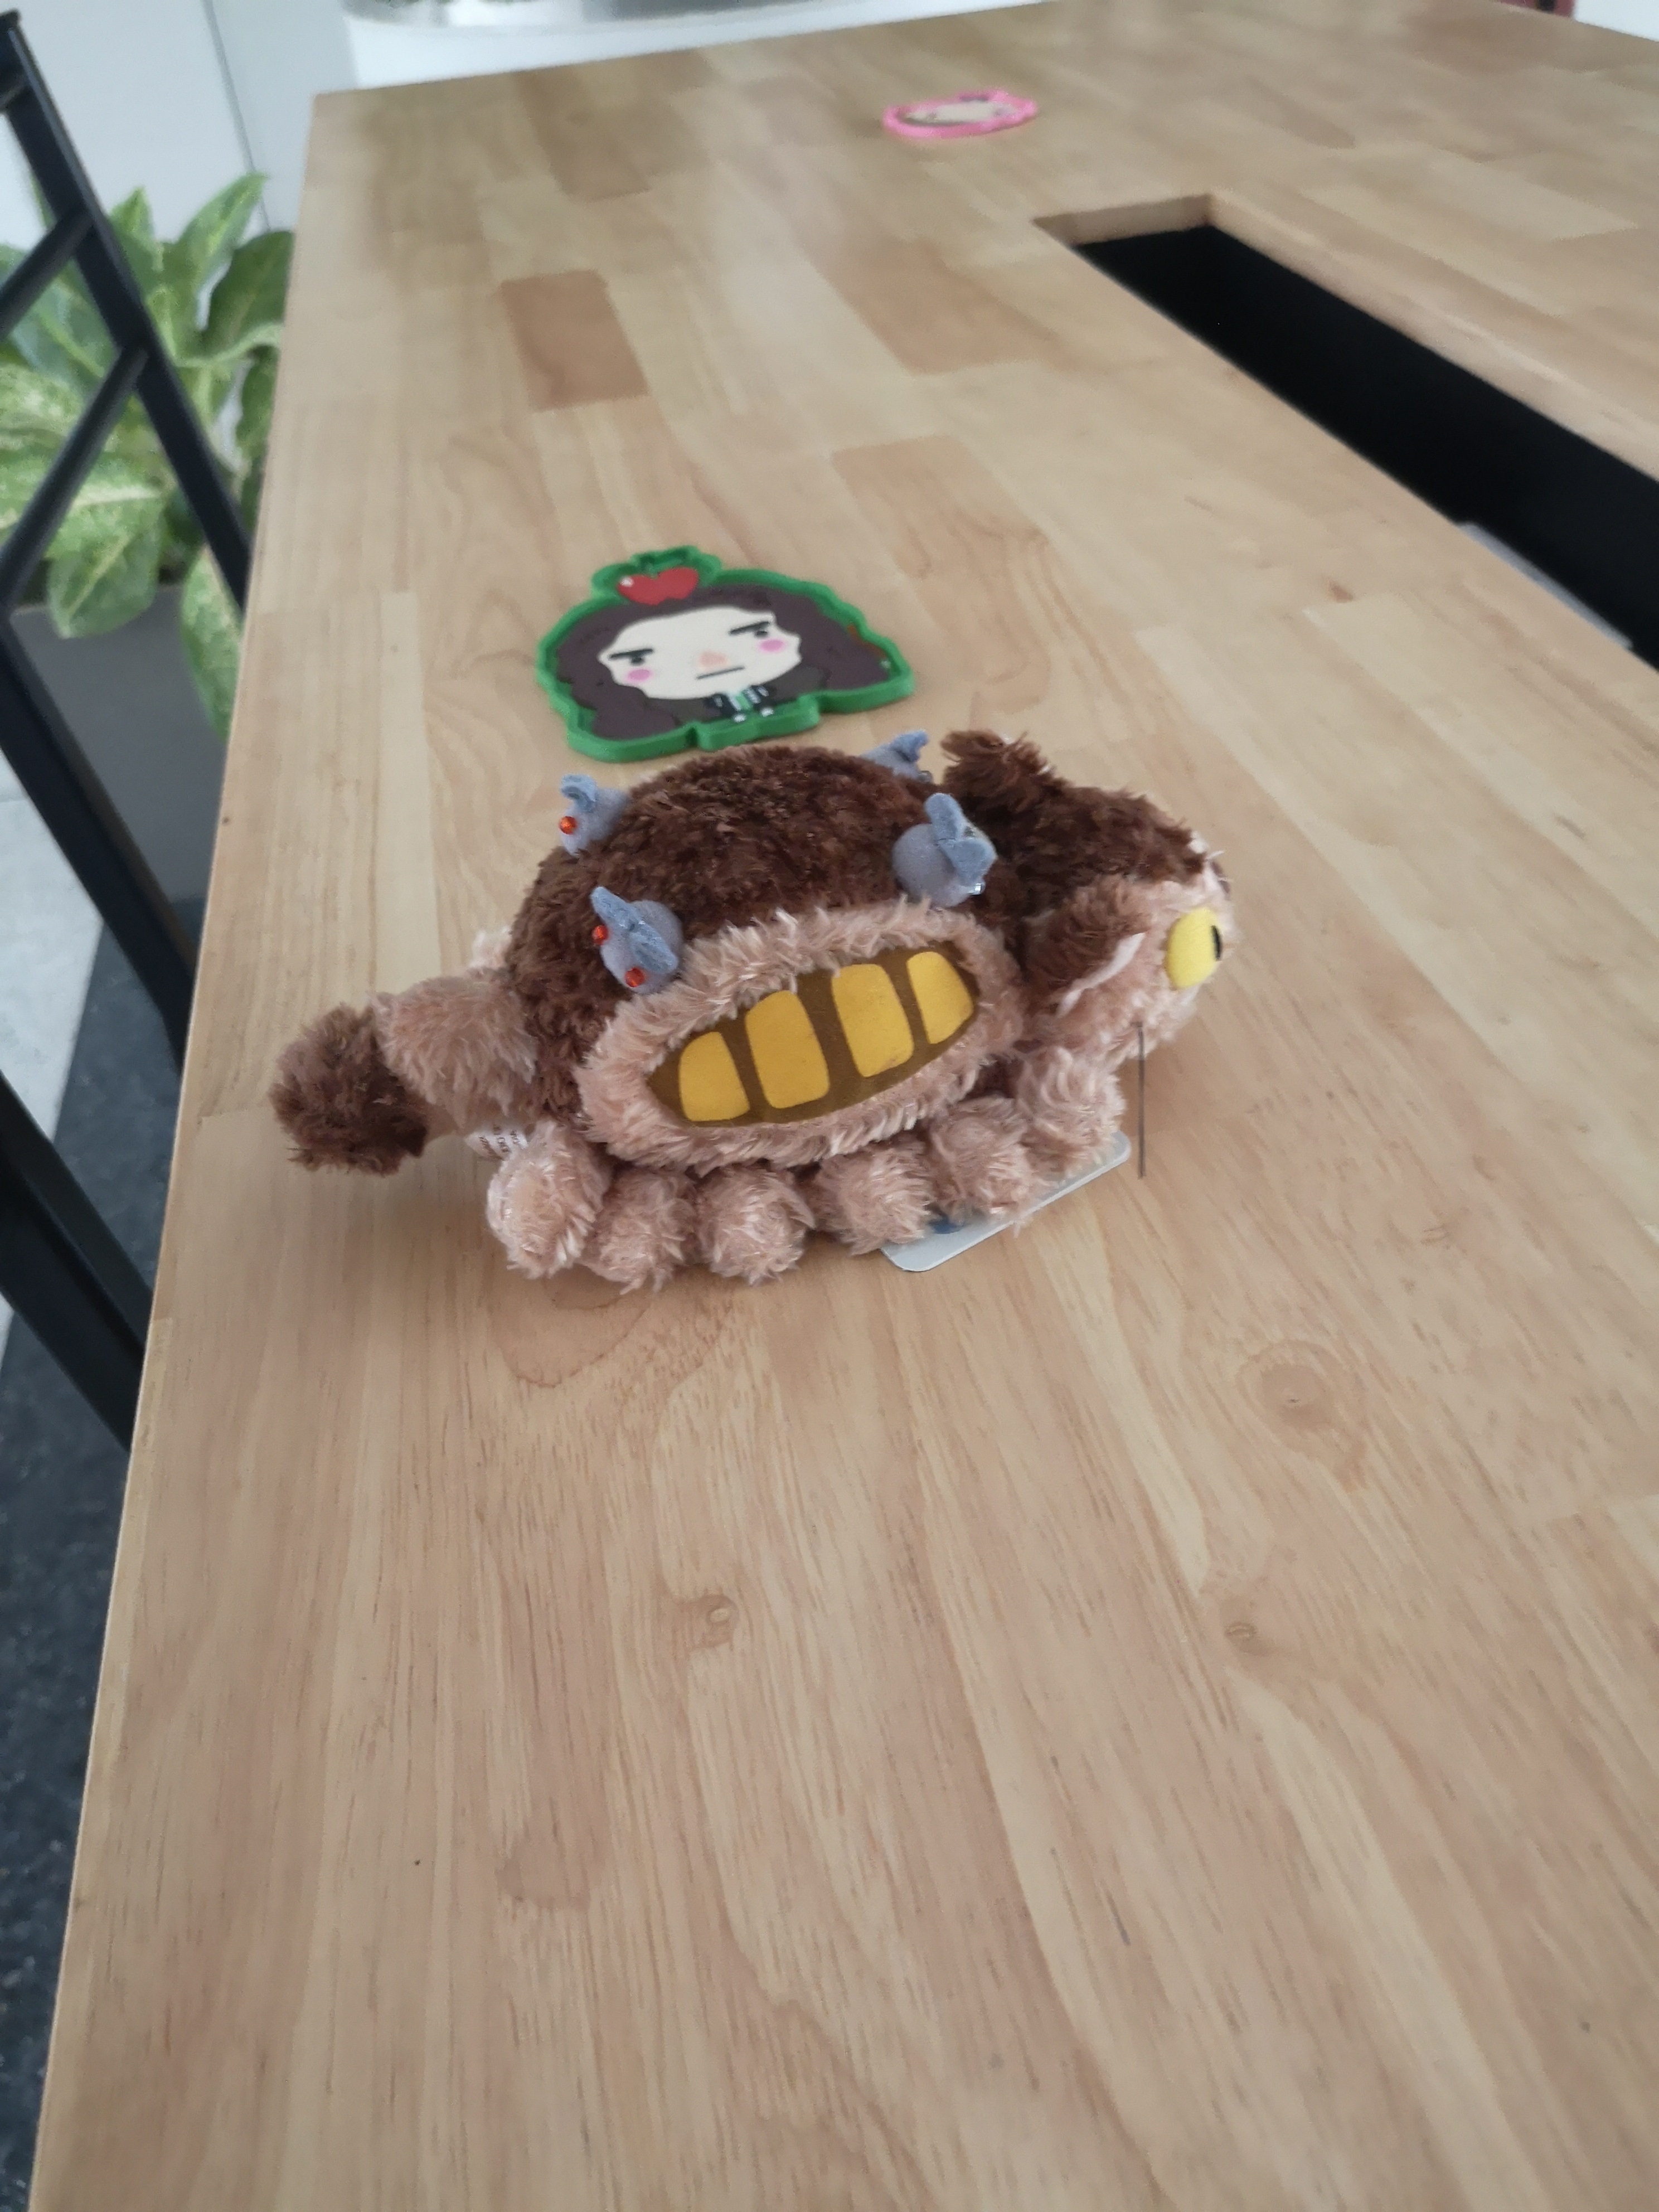nekobus: (260, 725, 1248, 1301)
